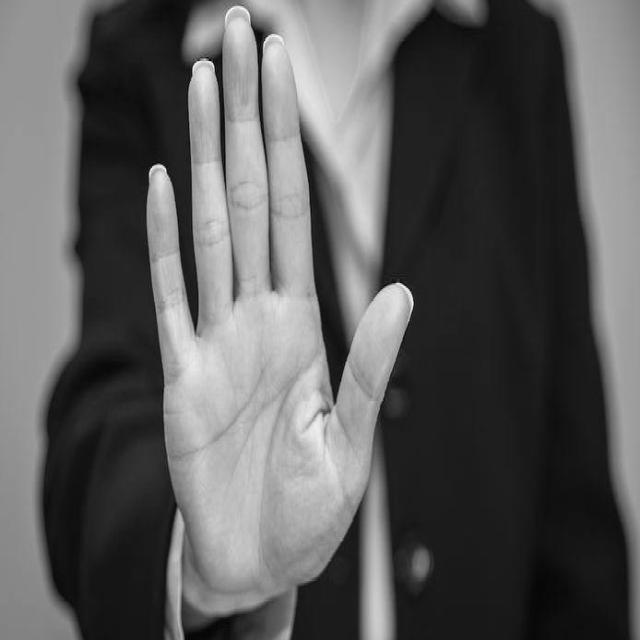stop: (143, 1, 417, 606)
